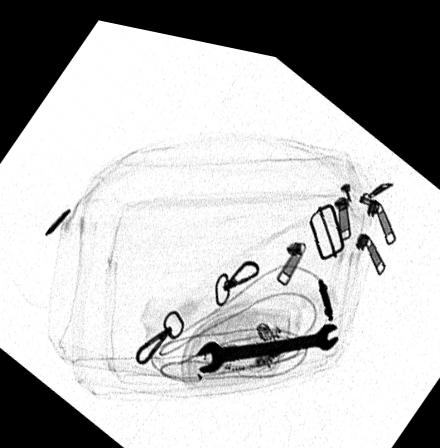Wrench: (190, 306, 340, 365)
